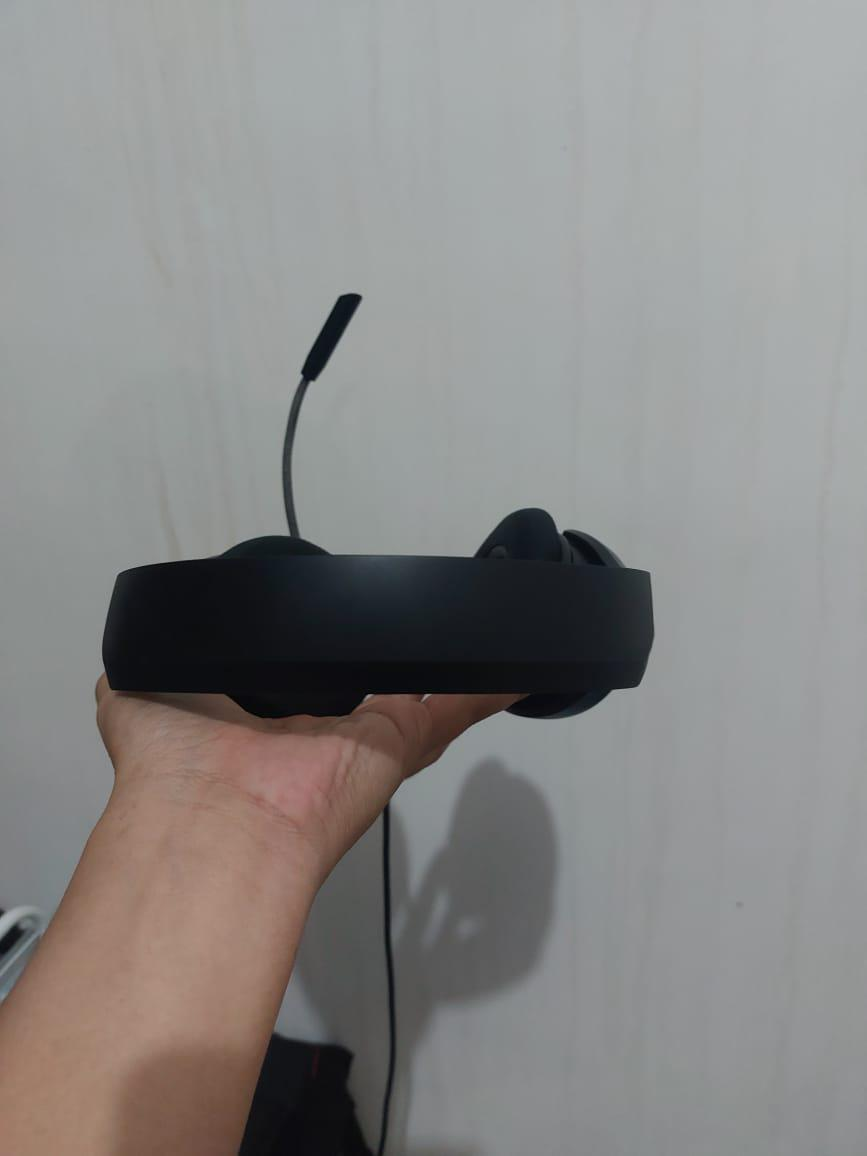Headset: (101, 274, 670, 724)
